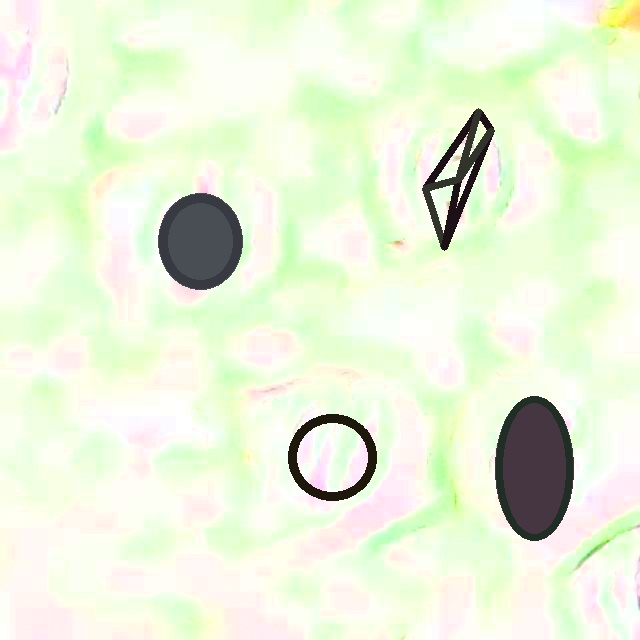open: (495, 395, 574, 541), (422, 108, 494, 250), (158, 193, 243, 289), (286, 413, 377, 501)
